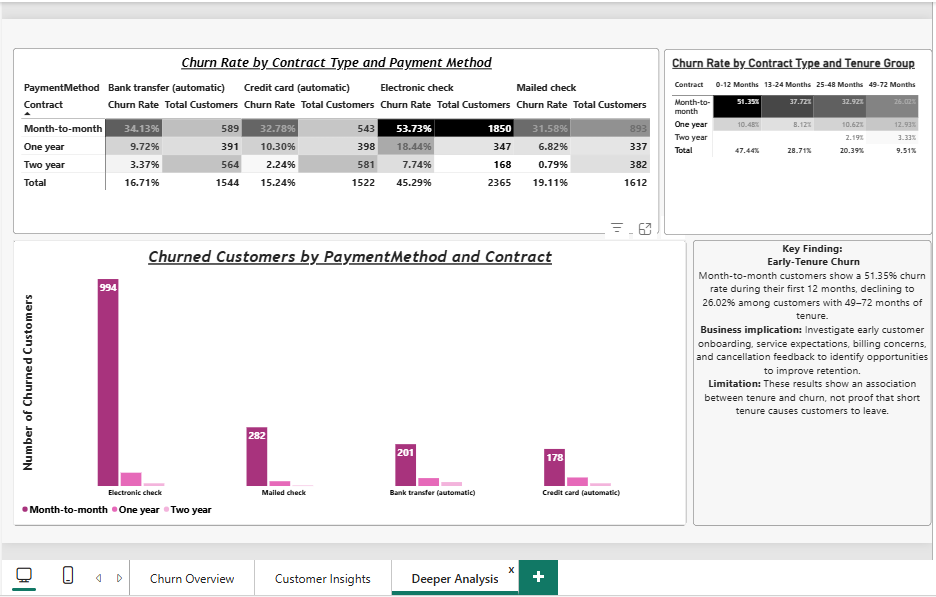

What the dashboard file says about the page in this screenshot:
{"tool":"powerbi","page":{"name":"Deeper Analysis","canvas":[1920,1080],"ordinal":2},"visuals":[{"type":"pivotTable","title":"Churn Rate by Contract Type and Payment Method","fields":{"Columns":["TelcoCustomerChurn.PaymentMethod"],"Rows":["TelcoCustomerChurn.Contract"],"Values":["TelcoCustomerChurn.Churn Rate","TelcoCustomerChurn.Total Customers"]},"box":[21.7,60.7,1333.7,383.9],"z":0},{"type":"clusteredColumnChart","fields":{"Category":["TelcoCustomerChurn.PaymentMethod"],"Series":["TelcoCustomerChurn.Contract"],"Y":["TelcoCustomerChurn.Churned Customers"]},"box":[21.7,455.4,1390.1,589.9],"z":1000},{"type":"pivotTable","title":"Churn Rate by Contract Type and Tenure Group","fields":{"Columns":["TelcoCustomerChurn.Tenure Group"],"Rows":["TelcoCustomerChurn.Contract"],"Values":["TelcoCustomerChurn.Churn Rate"]},"box":[1366,61,554,384],"z":2000},{"type":"textbox","box":[1427,455.4,492.3,589.9],"z":2001}]}

Visuals, with their boxes on the page's 1920x1080 design canvas (x1, y1, x2, y2). These are canvas units, not pixel positions in the 936x597 screenshot, which may show the page scaled, cropped or inside an application window:
"Churn Rate by Contract Type and Payment Method" pivotTable: bbox(22, 61, 1355, 445)
clusteredColumnChart - TelcoCustomerChurn.PaymentMethod x TelcoCustomerChurn.Contract: bbox(22, 455, 1412, 1045)
"Churn Rate by Contract Type and Tenure Group" pivotTable: bbox(1366, 61, 1920, 445)
textbox: bbox(1427, 455, 1919, 1045)
